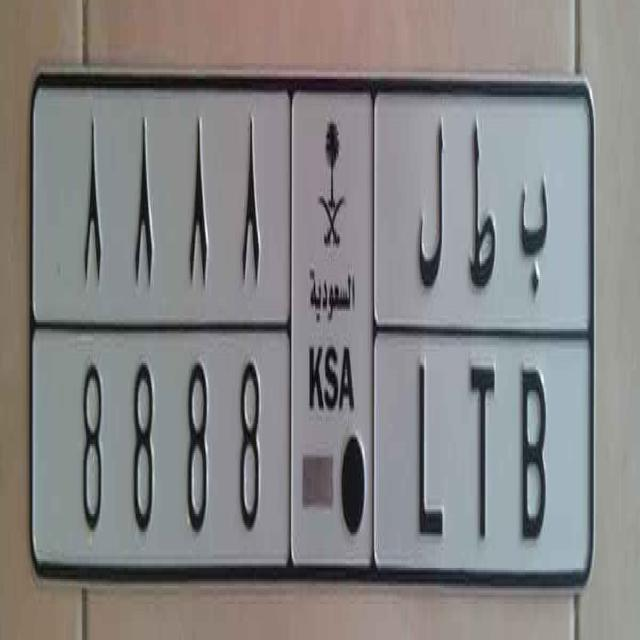license_plate: (74, 352, 551, 554)
